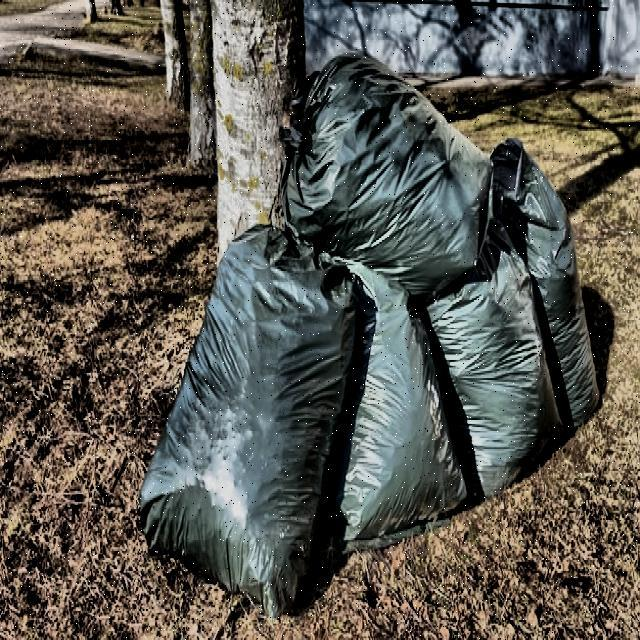Trashbag: (133, 232, 373, 606), (276, 59, 520, 258), (432, 264, 559, 496)
